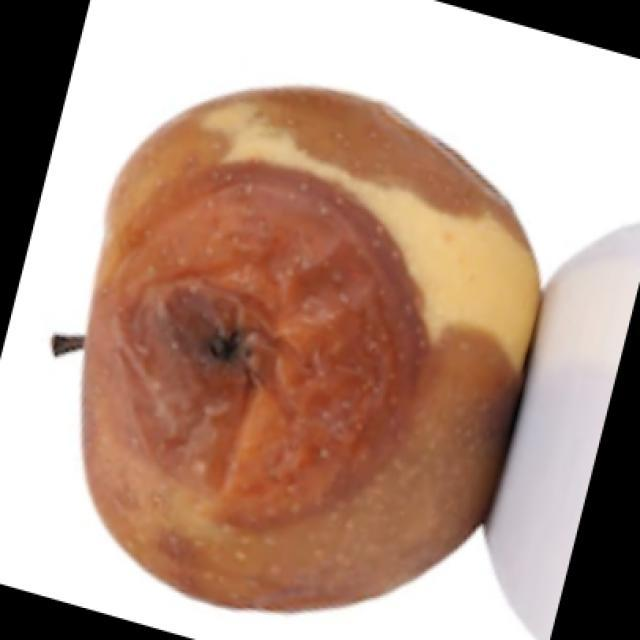Rotten: (83, 85, 535, 630)
